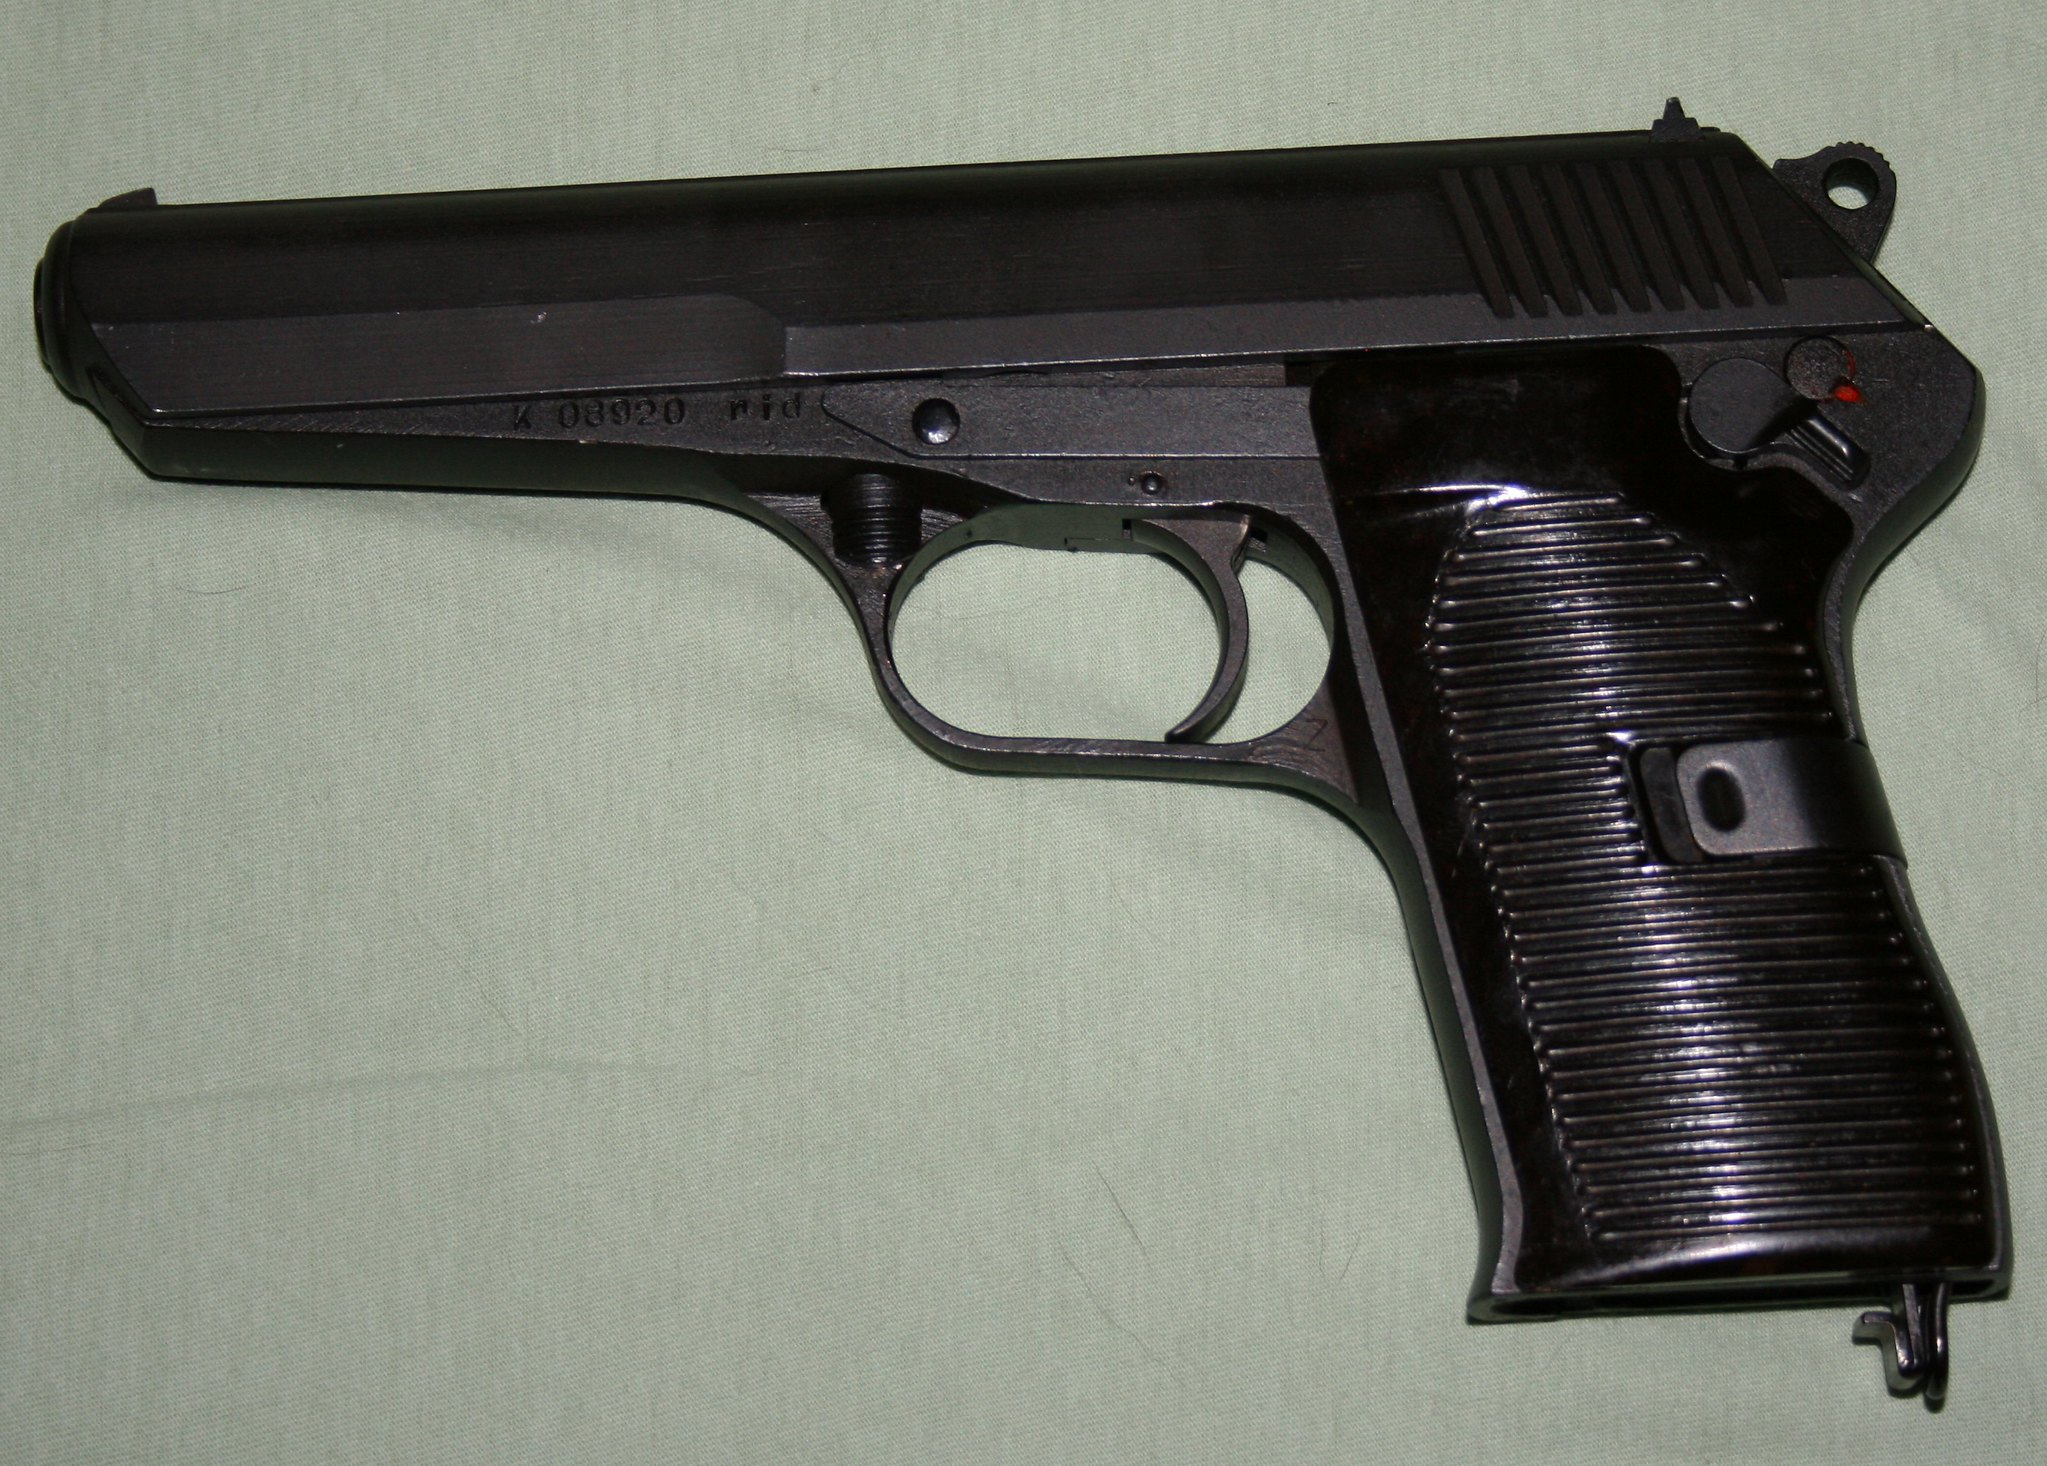gun: (25, 86, 2033, 1425)
